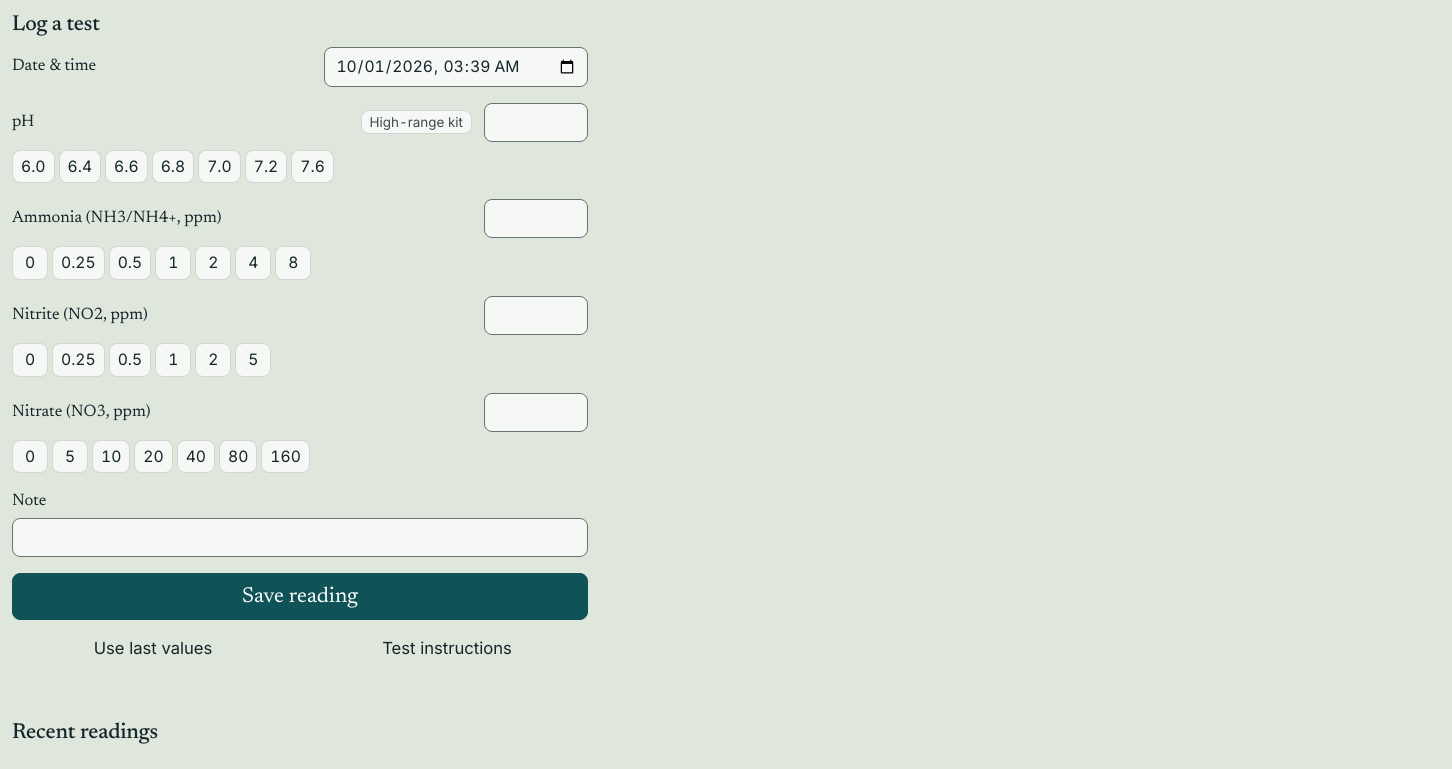
integration: create → add reading → visualize › adds a reading and it appears in list
Expected: the button "Save reading" is enabled, x1=12 y1=573 x2=588 y2=620
Type "7.3" into the field labelled "pH" at (536, 122), box x1=484 y1=103 x2=588 y2=142
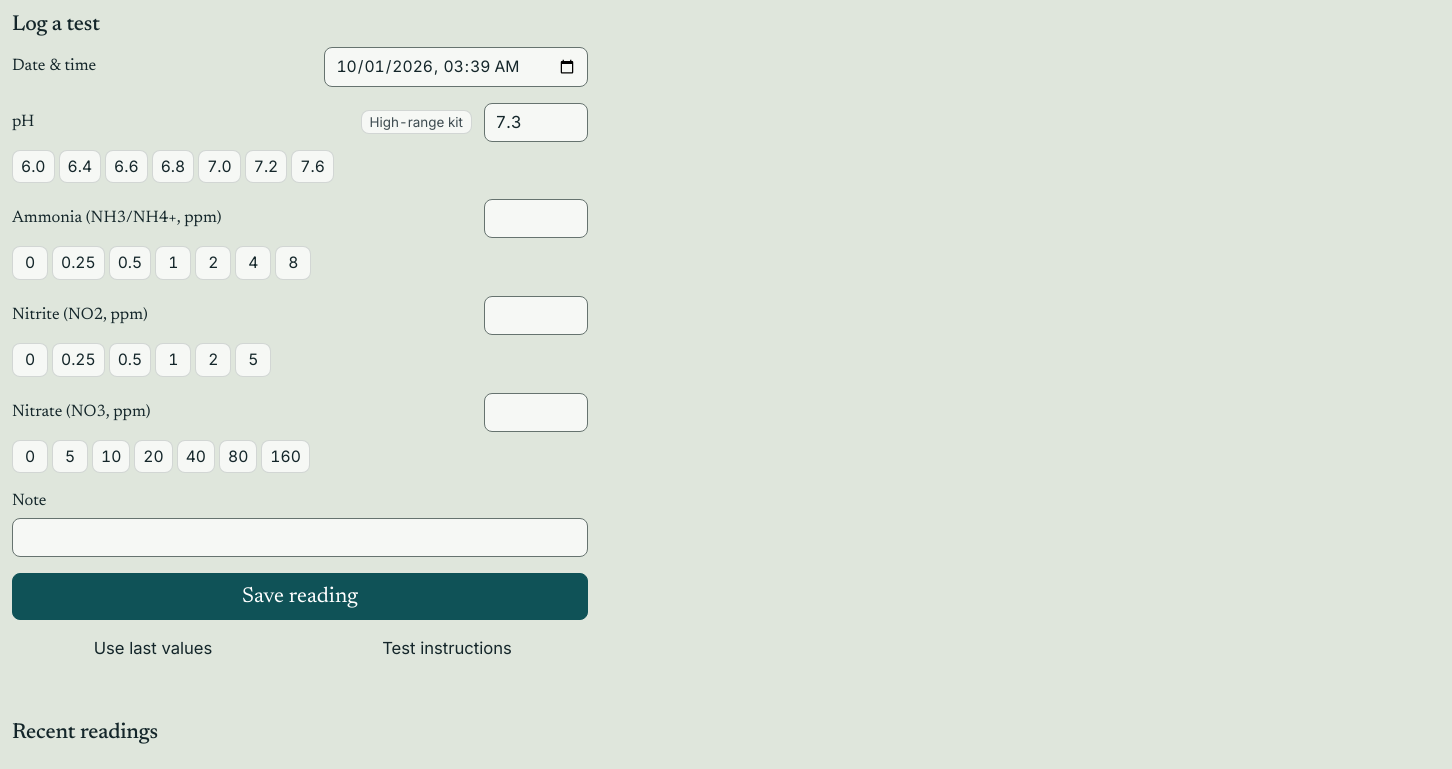
Type "0" into the field labelled "Ammonia (NH3/NH4+, ppm)" at (536, 219), box x1=484 y1=199 x2=588 y2=238
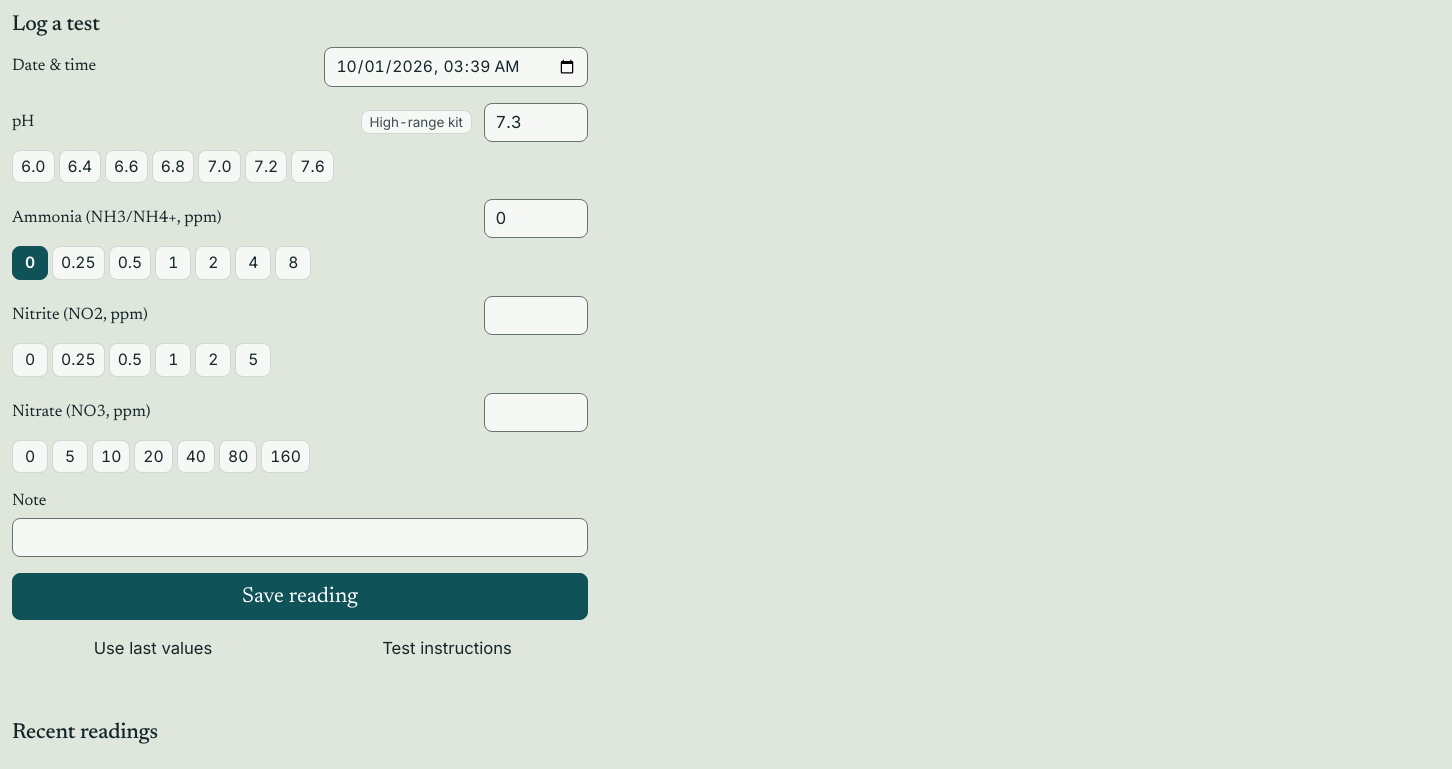
Type "0" into the field labelled "Nitrite (NO2, ppm)" at (536, 315), box x1=484 y1=296 x2=588 y2=335
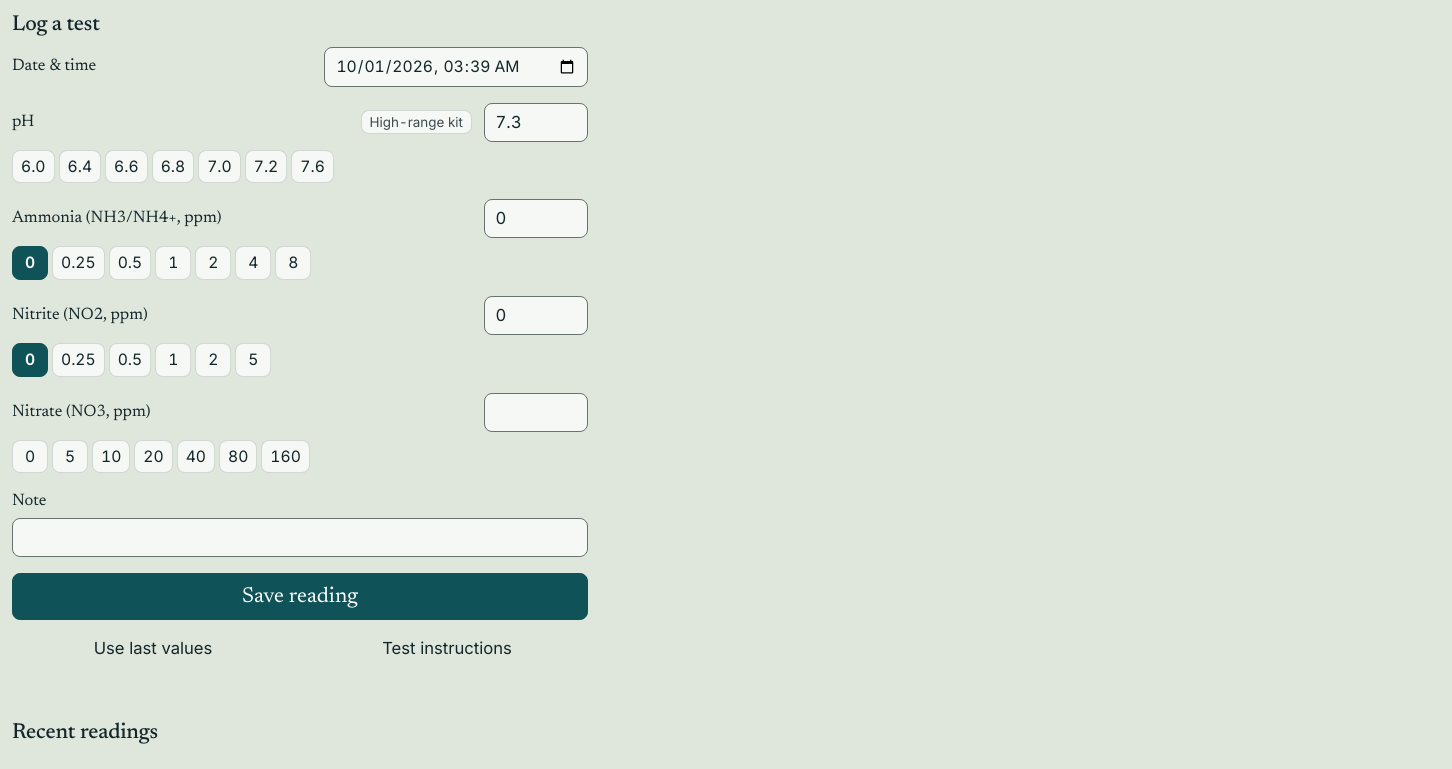
Type "12" into the field labelled "Nitrate (NO3, ppm)" at (536, 412), box x1=484 y1=392 x2=588 y2=432
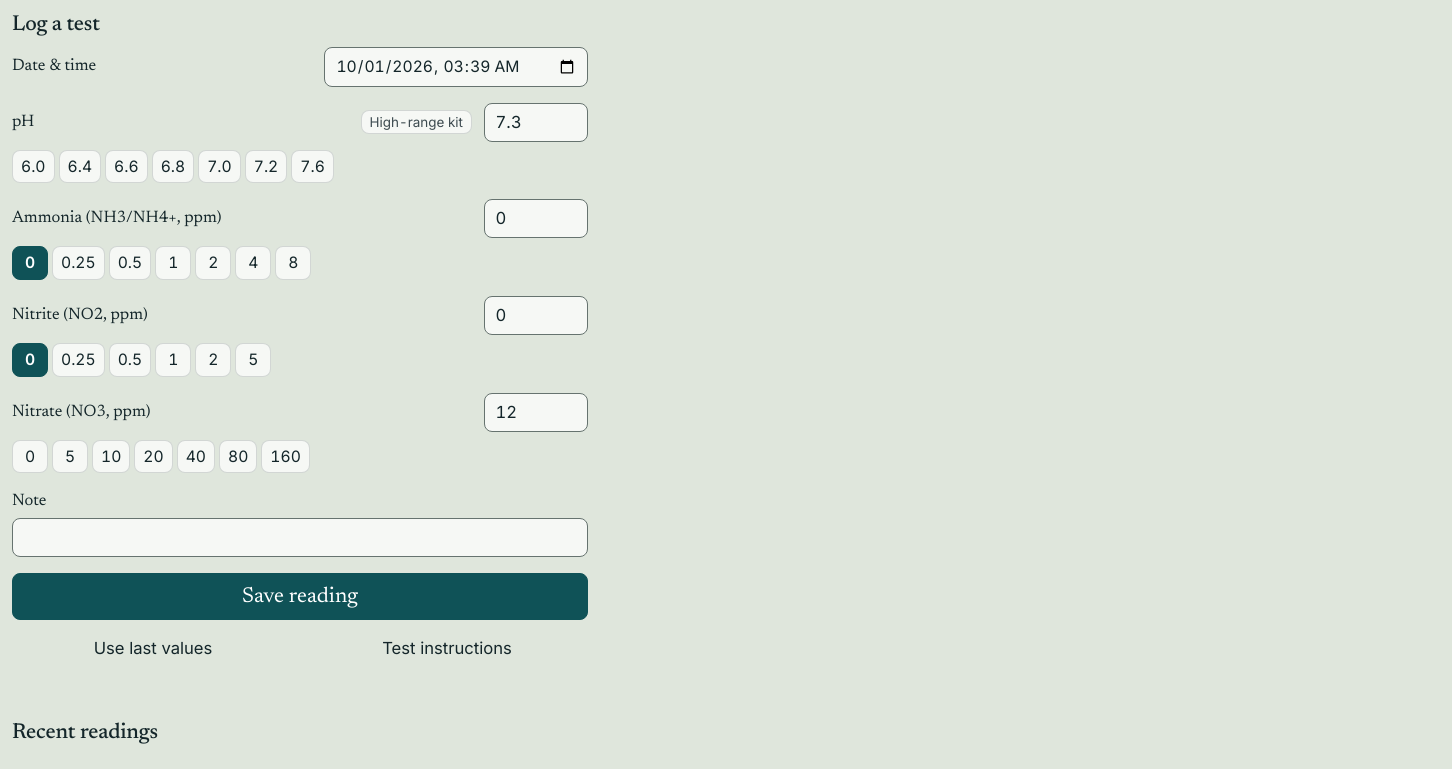
Type "water change" into the field labelled "Note" at (300, 538), box x1=12 y1=518 x2=588 y2=557
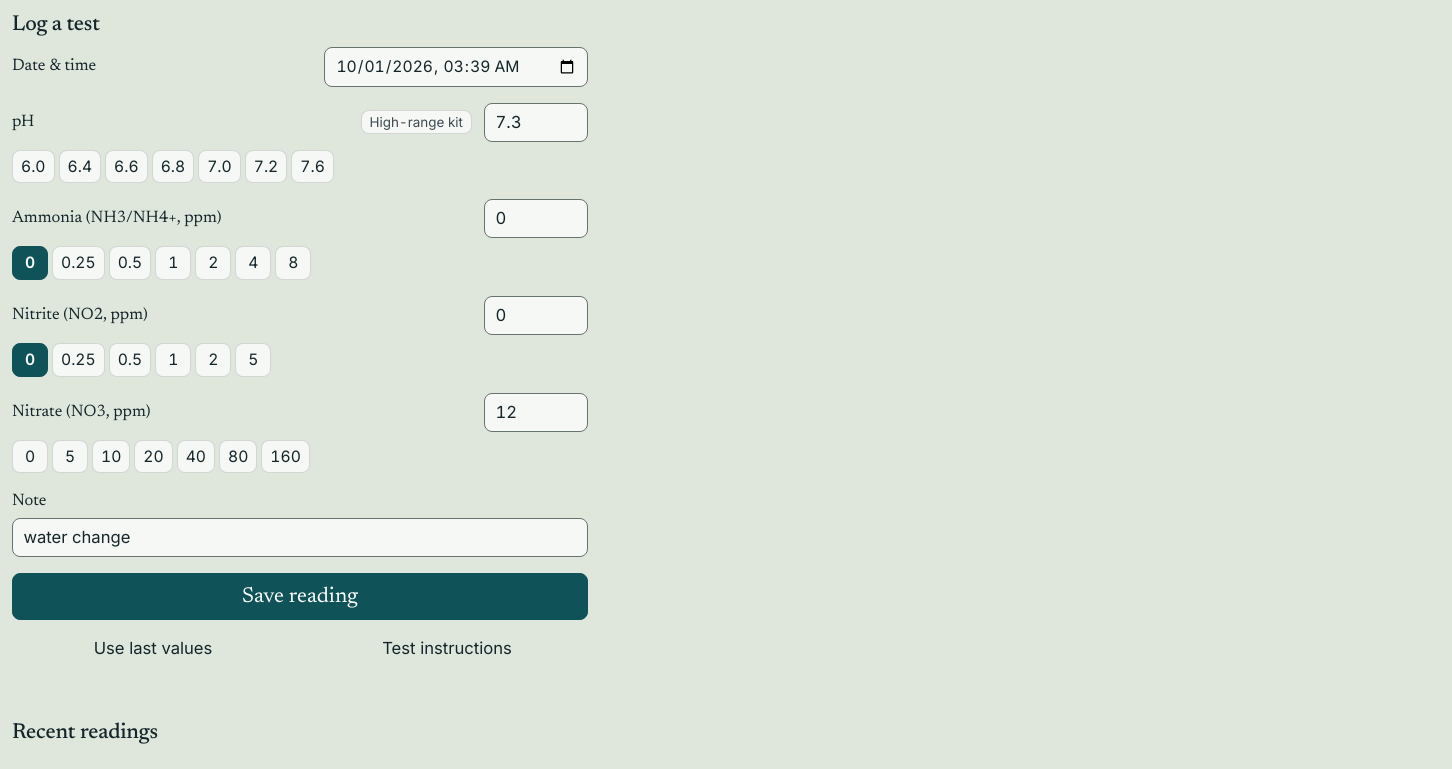
Click the button "Save reading" at (300, 597), box x1=12 y1=573 x2=588 y2=620
(page scrolled)
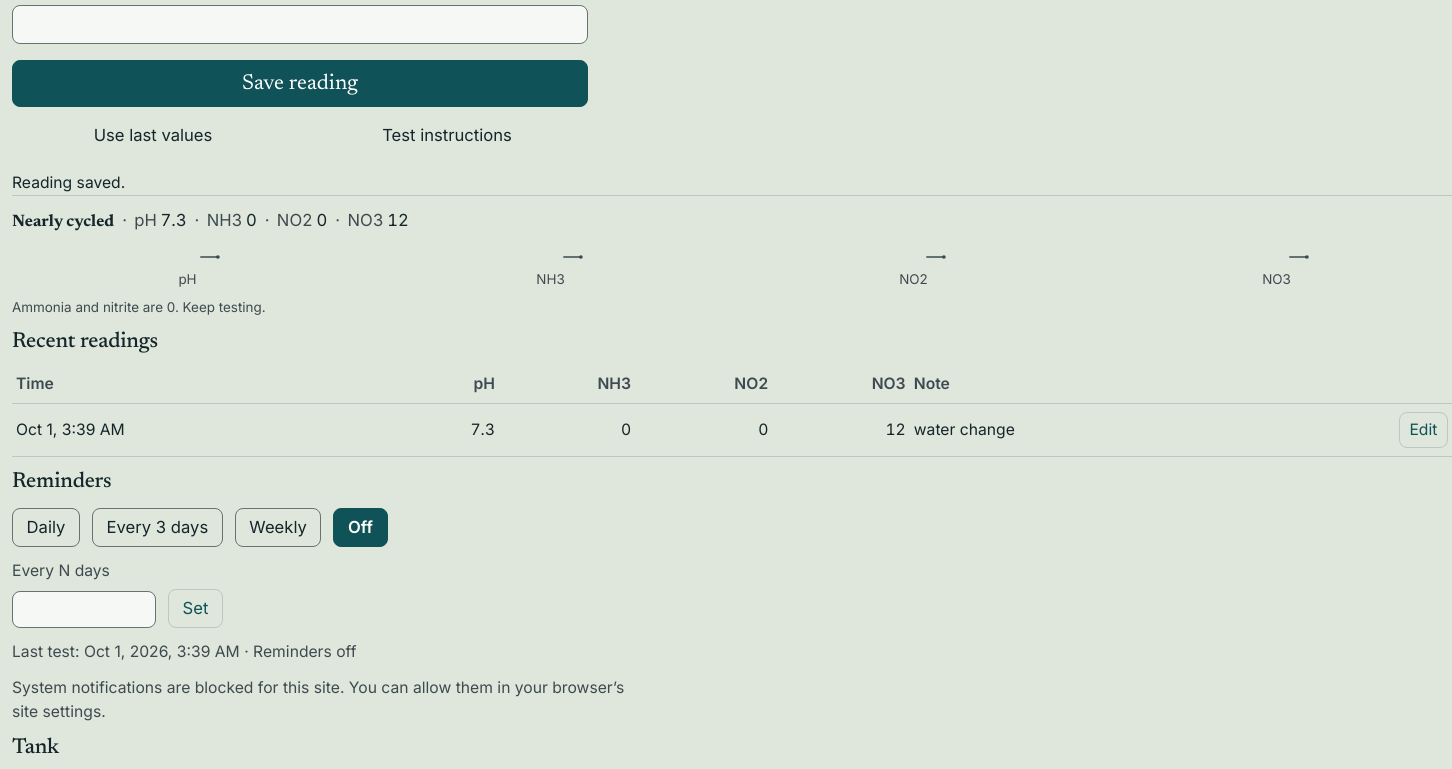
Expected: the text "water change" is shown, x1=910 y1=404 x2=1266 y2=456
